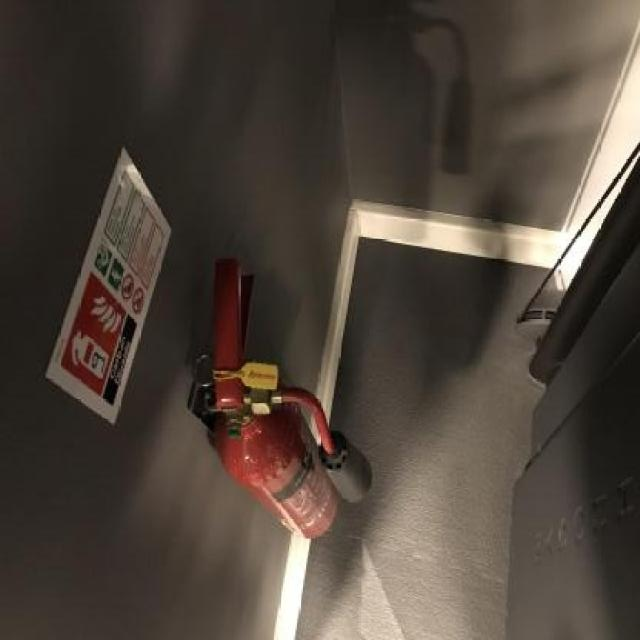fire extinguisher: (210, 258, 373, 538)
